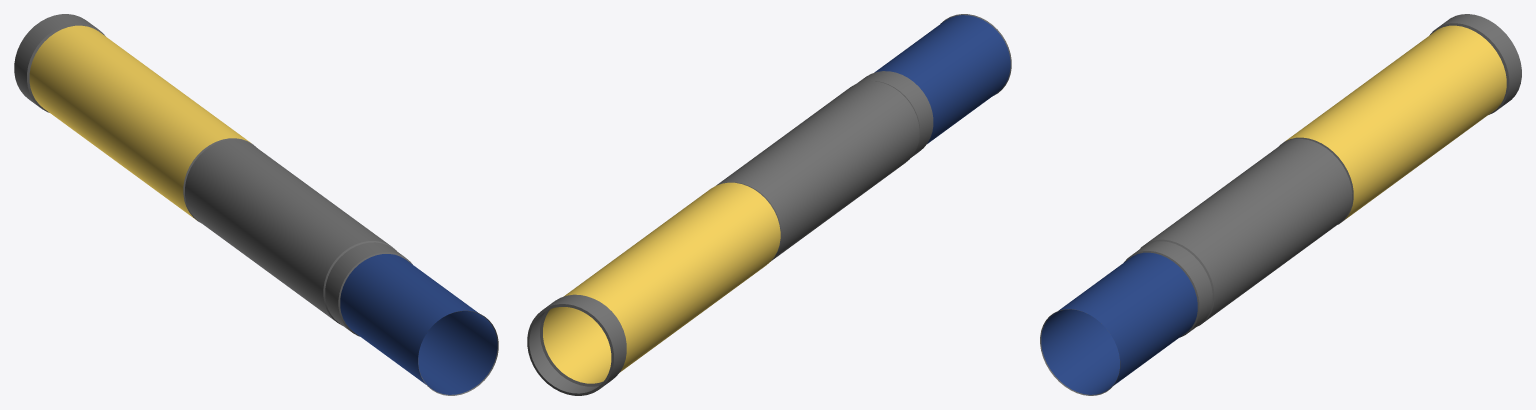
Rendered from Drill parts - Copy.FBX.
3 views of the same model, side by side, from view 1: azimuth 30°, elevation 25°; view 2: azimuth 150°, elevation 25°; view 3: azimuth 330°, elevation 25° (orthographic).
Parts seen in each view (by area): view 1: drill-body_parts_base_drill3; view 2: drill-body_parts_base_drill3; view 3: drill-body_parts_base_drill3.
Part boxes in pixels (x1,y1,x2,y2): drill-body_parts_base_drill3: [14, 14, 498, 395]; drill-body_parts_base_drill3: [527, 14, 1011, 395]; drill-body_parts_base_drill3: [1040, 14, 1521, 395].
Size of what is drawn, in the model's own units: 13.05 by 104 by 13.01.
